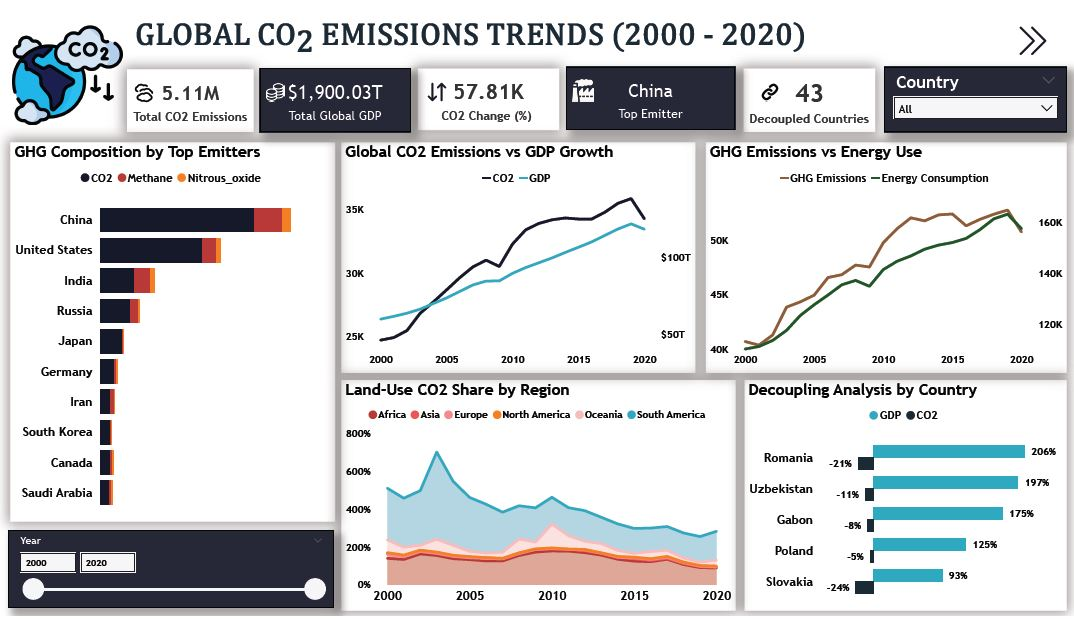

The dashboard page shown, as its layout file describes it:
{"tool":"powerbi","page":{"name":"Dashboard","canvas":[1280,720],"ordinal":0},"visuals":[{"type":"card","fields":{"Values":["Sum(climate_data world_emissions.co2)"]},"box":[150.8,69.1,151.2,74.9],"z":0},{"type":"card","fields":{"Values":["Sum(GDP_vs_CO2.Total_gdp)"]},"box":[309.3,68.4,179.4,75.2],"z":1000},{"type":"card","fields":{"Values":["climate_data world_emissions.CO2_Change"]},"box":[497.3,68.4,169.2,73.5],"z":2000},{"type":"card","fields":{"Values":["Decoupling.Decoupled_Countries"]},"box":[885.2,68.4,157.2,75.2],"z":3000},{"type":"lineChart","title":"Global CO2 Emissions vs GDP Growth","fields":{"Category":["GDP_vs_CO2.year"],"Y2":["Sum(GDP_vs_CO2.Total_gdp)"],"Y":["Sum(GDP_vs_CO2.Total_co2)"]},"box":[406.1,155.5,421.9,275],"z":4000},{"type":"textbox","box":[155.5,2.9,879.8,63.4],"z":5000},{"type":"stackedAreaChart","title":"Land-Use CO2 Share by Region","fields":{"Category":["Land_Use.year"],"Y":["Sum(Land_Use.Land_Use_Share_Percent)"],"Series":["Land_Use.Region"]},"box":[406.1,439.2,469.4,275],"z":6000},{"type":"clusteredBarChart","title":"Decoupling Analysis by Country","fields":{"Category":["Decoupling.country"],"Y":["Sum(Decoupling.GDP_Change_Percent)","Sum(Decoupling.CO2_Change_Percent)"]},"box":[885.6,439.2,384.5,275],"z":7000},{"type":"lineChart","title":"GHG Emissions vs Energy Use","fields":{"Category":["Energy_Use _vs_GHG_Emissions.year"],"Y":["Sum(Energy_Use _vs_GHG_Emissions.Total_GHG_Emissions)"],"Y2":["Sum(Energy_Use _vs_GHG_Emissions.Total_Energy_Consumption)"]},"box":[839.5,155.5,430.6,275],"z":8000},{"type":"barChart","title":"GHG Composition by Top Emitters","fields":{"Category":["GHG_Comparison.country"],"Y":["Sum(GHG_Comparison.co2)","Sum(GHG_Comparison.methane)","Sum(GHG_Comparison.nitrous_oxide)"]},"box":[11.5,155.5,387.4,452.2],"z":9000},{"type":"slicer","fields":{"Values":["climate_data country_table.country"]},"box":[1052.6,66.2,217.4,77.8],"z":10000},{"type":"image","box":[152.2,80.6,38.9,33.1],"z":11000},{"type":"image","box":[309.2,80.6,36,31.7],"z":12000},{"type":"card","fields":{"Values":["Decoupling.Measure"]},"box":[673.6,66.2,201.7,75.2],"z":13000},{"type":"image","box":[10.1,11.5,141.1,128.2],"z":14000},{"type":"slicer","fields":{"Values":["Total_CO2.year"]},"box":[10.1,617.8,387.4,92.2],"z":15000},{"type":"image","box":[897.1,80.6,38.9,31.7],"z":16000},{"type":"image","box":[672.5,75.9,43.2,36],"z":17000},{"type":"image","box":[501.1,77.8,37.4,36],"z":18000},{"type":"image","box":[1199.5,10.1,59,50.4],"z":19000}]}

Visuals, with their boxes in screenshot pixels (x1, y1, x2, y2), scaled from the page's 1280x720 canvas onto the 1074x619 screenshot:
card - Sum(climate_data world_emissions.co2): x1=127, y1=59, x2=253, y2=124
card - Sum(GDP_vs_CO2.Total_gdp): x1=260, y1=59, x2=410, y2=123
card - climate_data world_emissions.CO2_Change: x1=417, y1=59, x2=559, y2=122
card - Decoupling.Decoupled_Countries: x1=743, y1=59, x2=875, y2=123
"Global CO2 Emissions vs GDP Growth" lineChart: x1=341, y1=134, x2=695, y2=370
textbox: x1=130, y1=2, x2=869, y2=57
"Land-Use CO2 Share by Region" stackedAreaChart: x1=341, y1=378, x2=735, y2=614
"Decoupling Analysis by Country" clusteredBarChart: x1=743, y1=378, x2=1066, y2=614
"GHG Emissions vs Energy Use" lineChart: x1=704, y1=134, x2=1066, y2=370
"GHG Composition by Top Emitters" barChart: x1=10, y1=134, x2=335, y2=522
slicer - climate_data country_table.country: x1=883, y1=57, x2=1066, y2=124
image: x1=128, y1=69, x2=160, y2=98
image: x1=259, y1=69, x2=290, y2=97
card - Decoupling.Measure: x1=565, y1=57, x2=734, y2=122
image: x1=8, y1=10, x2=127, y2=120
slicer - Total_CO2.year: x1=8, y1=531, x2=334, y2=610
image: x1=753, y1=69, x2=785, y2=97
image: x1=564, y1=65, x2=601, y2=96
image: x1=420, y1=67, x2=452, y2=98
image: x1=1006, y1=9, x2=1056, y2=52
